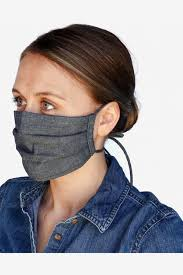FaceMask: (13, 111, 95, 180)
